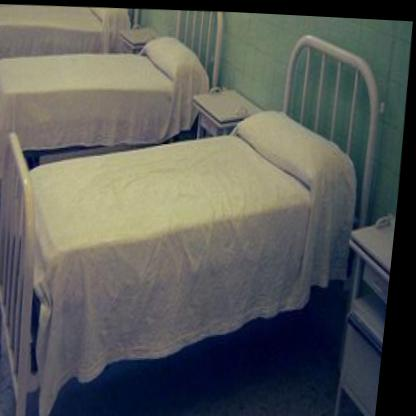Bed: (4, 32, 379, 416), (0, 8, 224, 167)
